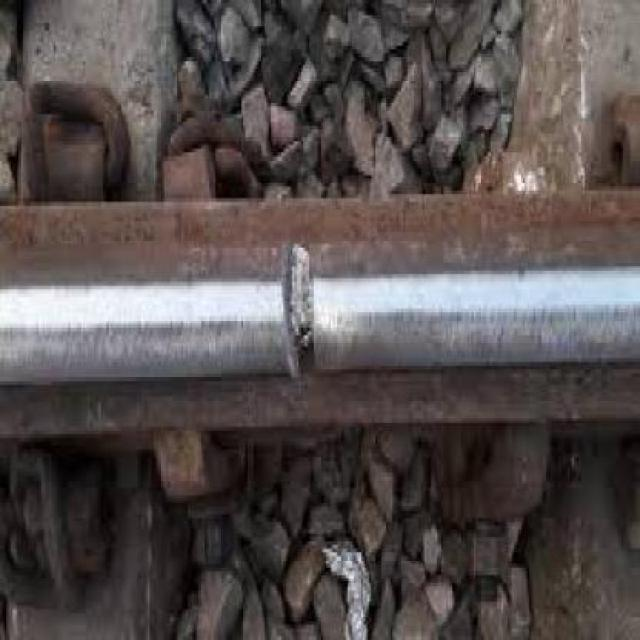defective: (3, 104, 640, 606)
